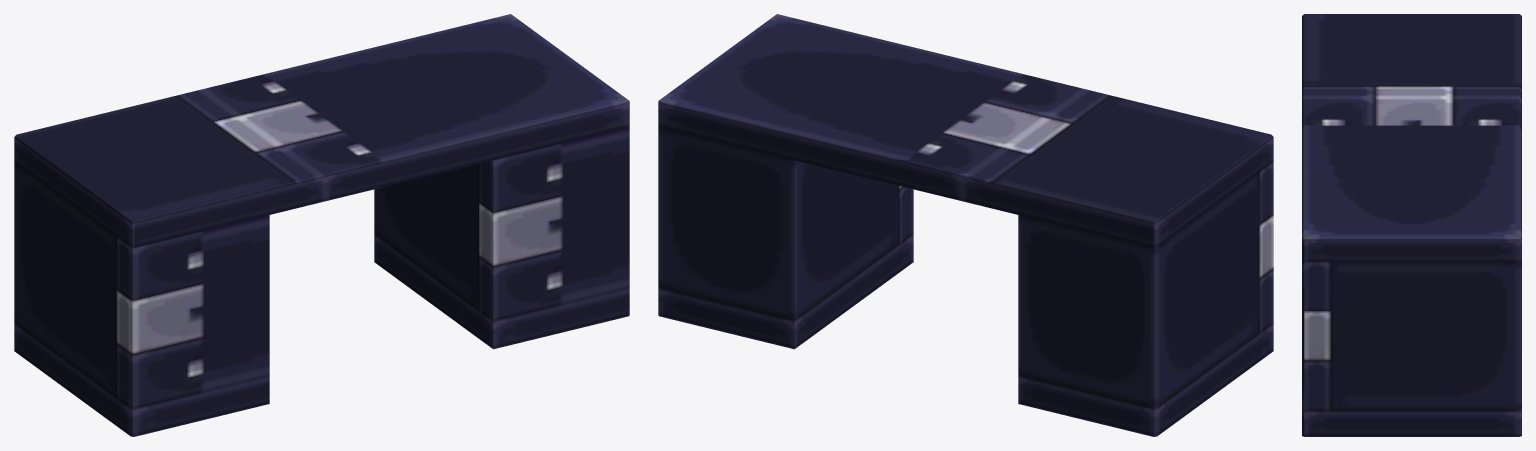
File: rmk_mnc_tableM02.dae
The picture shows the model from 3 angles, left to right: view 1: azimuth 30°, elevation 25°; view 2: azimuth 150°, elevation 25°; view 3: azimuth 270°, elevation 25°; orthographic projection. The views are drawn at different scales.
Visible parts, largest first — view 1: rmk_mnc_tableM02; view 2: rmk_mnc_tableM02; view 3: rmk_mnc_tableM02.
Part boxes in pixels (x1,y1,x2,y2): rmk_mnc_tableM02: (14,14,629,436); rmk_mnc_tableM02: (658,14,1273,436); rmk_mnc_tableM02: (1302,14,1521,436).
Bounding box in the file's own units: 58 × 24 × 24.
1 material, 1 textured.
